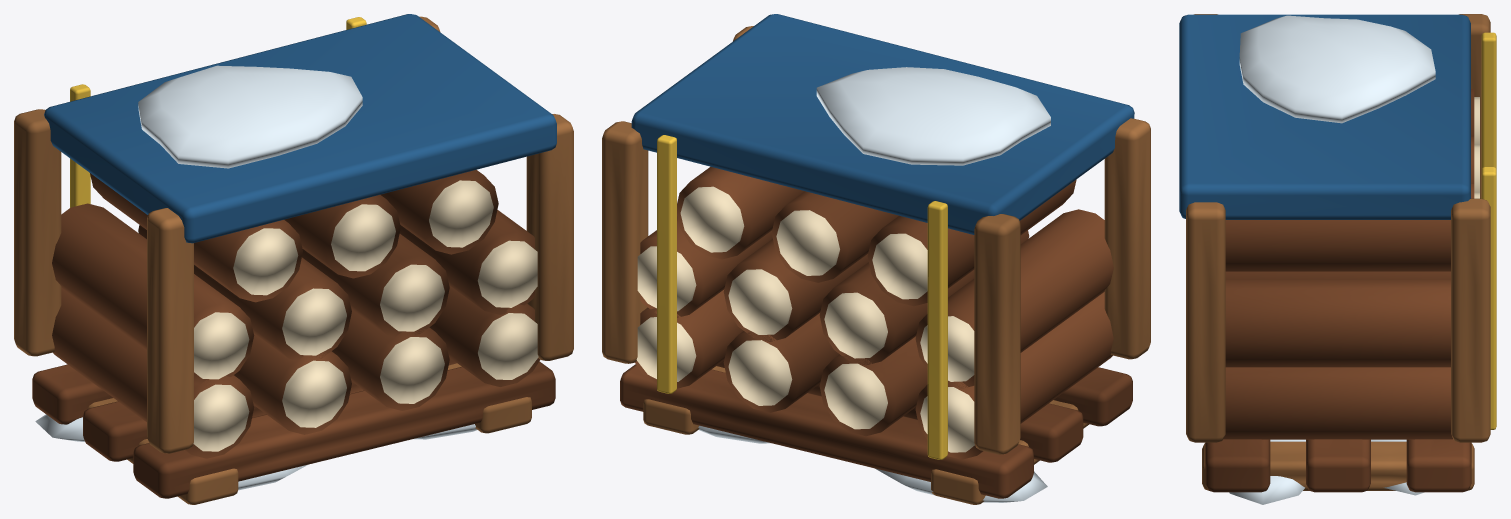
Rendered from wood_stack.glb.
3 views of the same model, side by side, from view 1: azimuth 30°, elevation 25°; view 2: azimuth 150°, elevation 25°; view 3: azimuth 270°, elevation 25° (orthographic).
Visible parts, largest first — view 1: wood_stack; view 2: wood_stack; view 3: wood_stack.
Part boxes in pixels (bbox=[...]): wood_stack: bbox=[14, 14, 573, 504]; wood_stack: bbox=[602, 14, 1150, 504]; wood_stack: bbox=[1179, 14, 1496, 504].
Bounding box in the file's own units: 1.45 × 1.18 × 0.9575.
